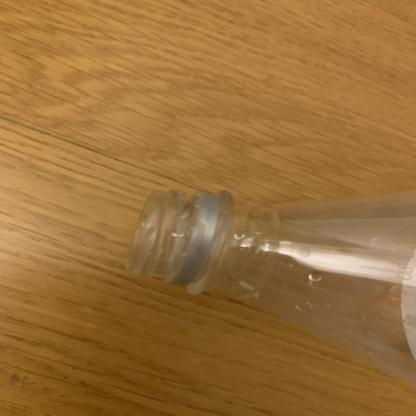trash: (105, 180, 414, 393)
